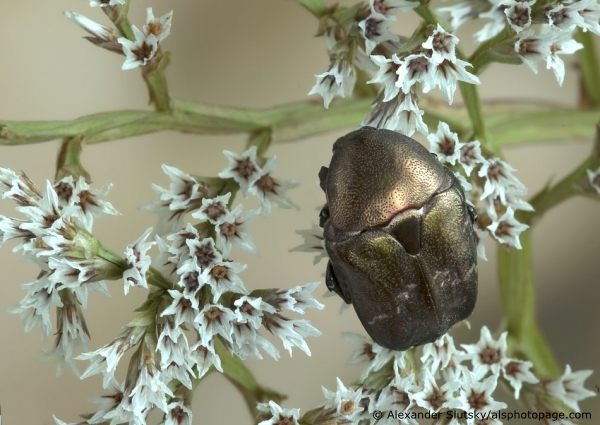Protaetia_metallica: (310, 122, 480, 354)
